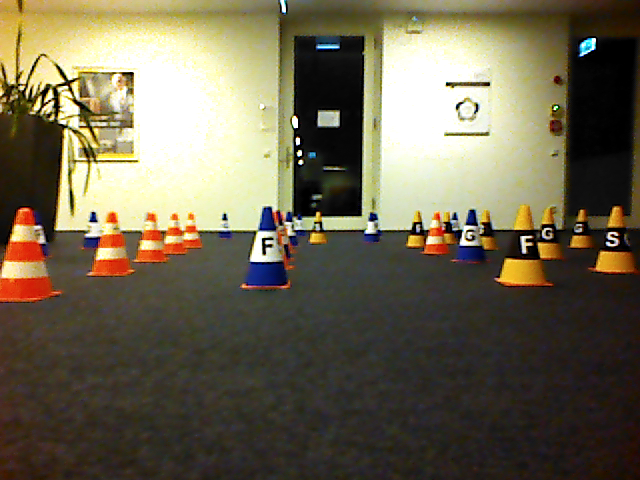bluecone: (241, 206, 290, 292)
orangeconesmall: (1, 206, 40, 305), (98, 211, 135, 278)
yellowcone: (494, 202, 545, 288), (589, 205, 640, 276), (537, 208, 566, 260), (567, 208, 598, 250)
